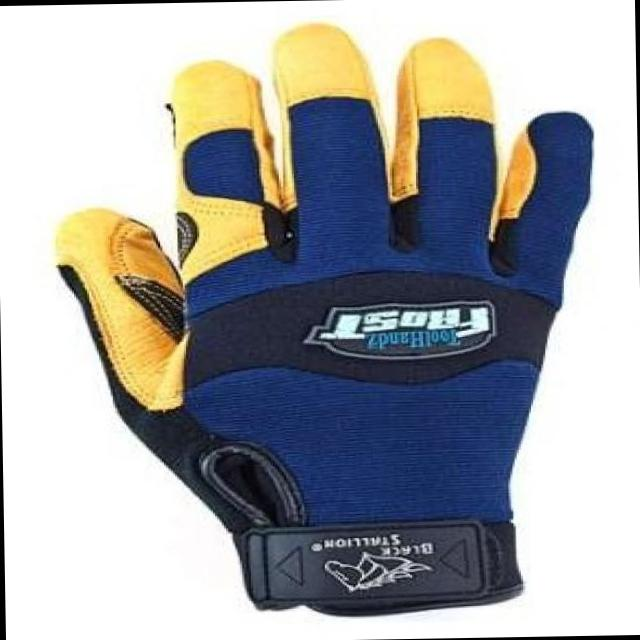Gloves: (40, 9, 594, 618)
